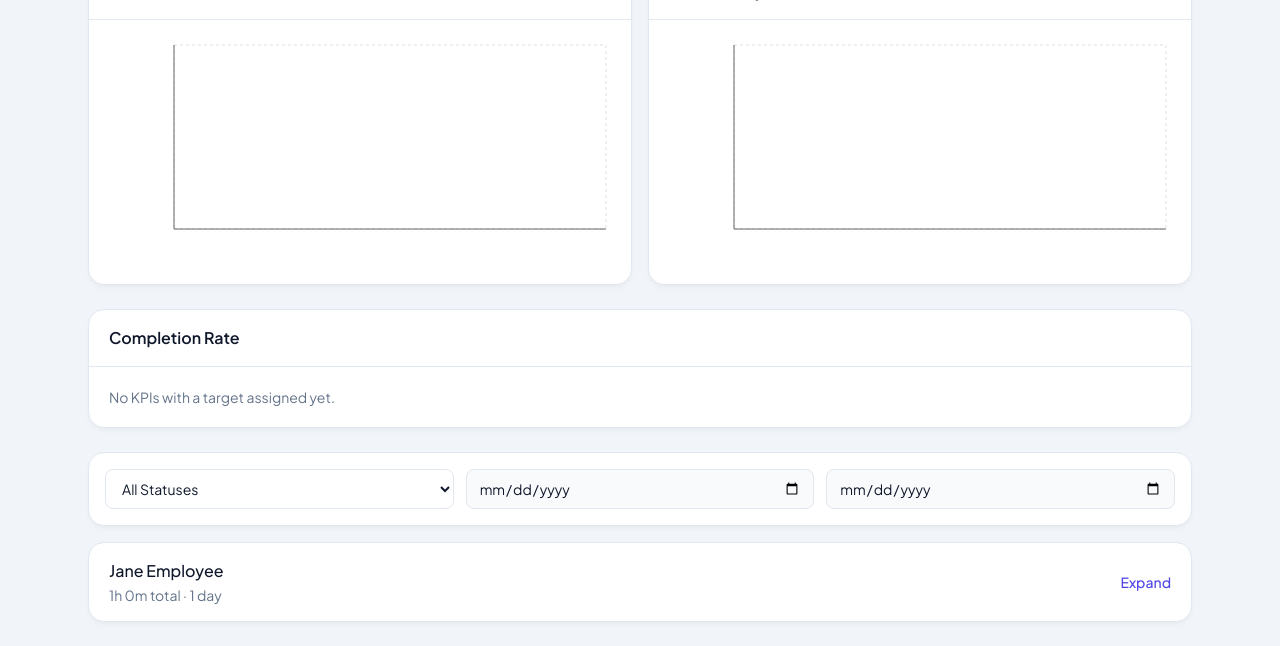
Test case: TeamTimesheetsPage › renders employee groups with a total and expands to show entries
This screenshot has width=1280, height=646.
(page scrolled)
Check: the text "Jane Employee" is shown, box [109,559,224,583]
Check: the text "1h 0m total · 1 day" is shown, box [109,585,224,605]
What coordinates should you click on to do the following:
click the button "Jane Employee 1h 0m total · 1 day Expand"
I would click on:
 (166, 570)
Its box is [89,543,1191,621].
(page scrolled)
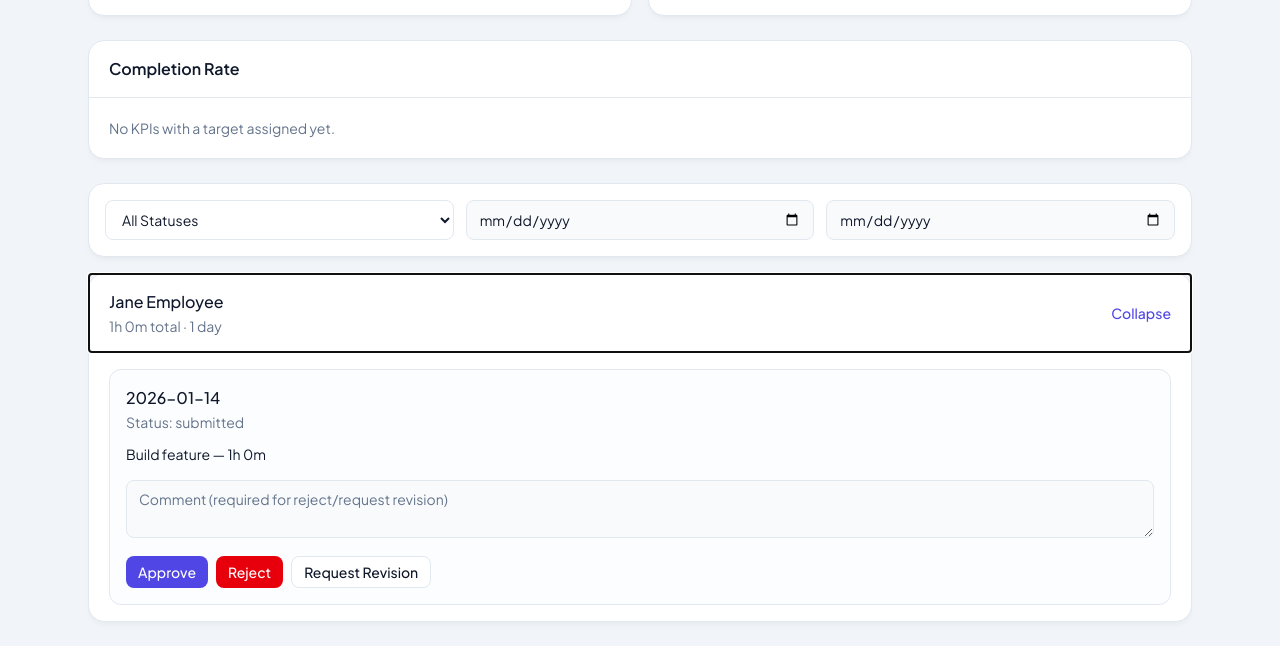
Check: the list item "Build feature — 1h 0m" is shown, box [126,445,266,463]
Check: the text "Status: submitted" is shown, box [126,412,244,432]
